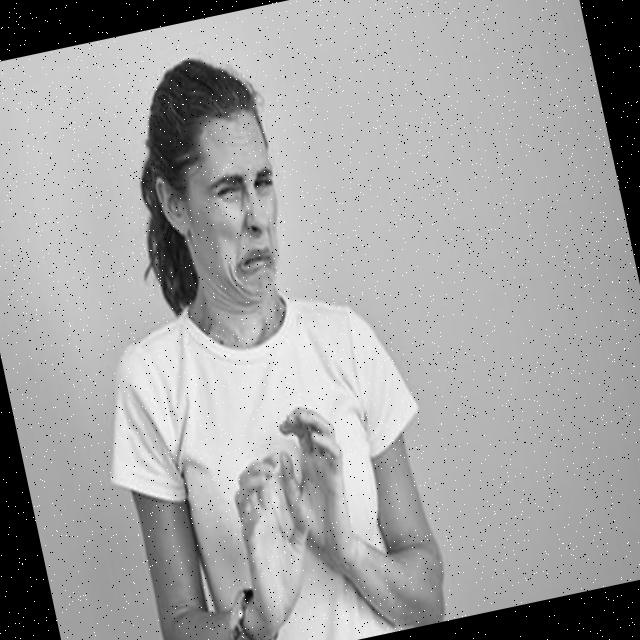Disgust: (167, 110, 299, 314)
